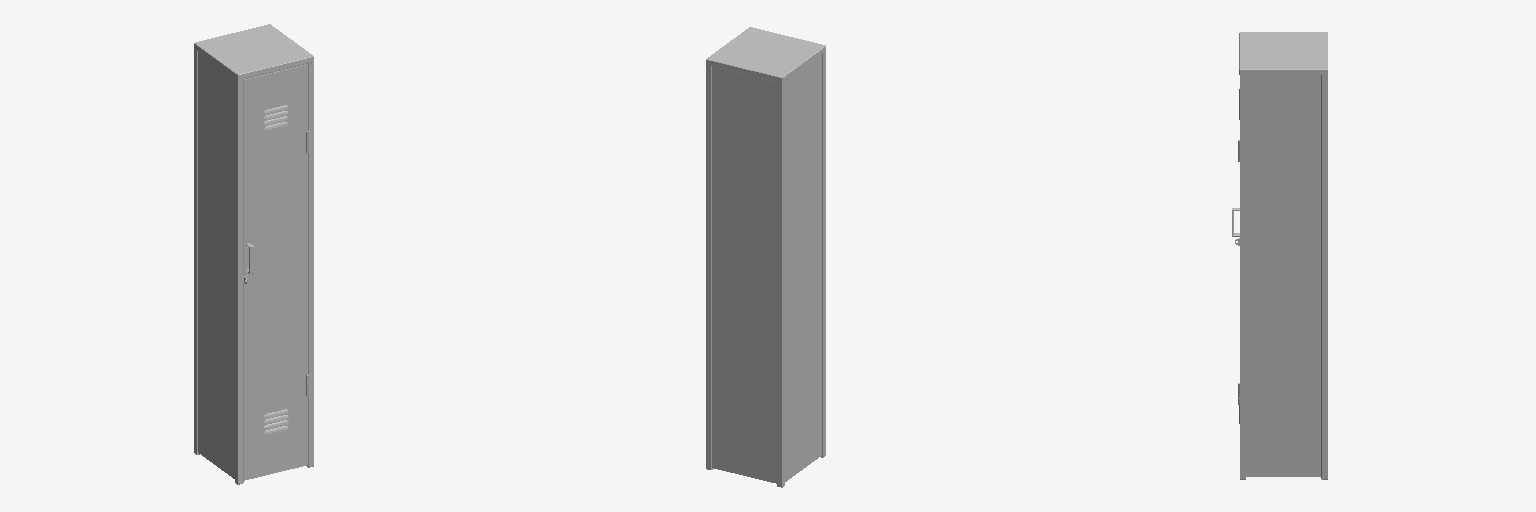
File: locker_LoD_2.obj
The picture shows the model from 3 angles: view 1: azimuth 30°, elevation 25°; view 2: azimuth 150°, elevation 25°; view 3: azimuth 270°, elevation 25°; orthographic projection.
Visible parts, largest first — view 1: SM_LockerClosed_Mesh.005; view 2: SM_LockerClosed_Mesh.005; view 3: SM_LockerClosed_Mesh.005.
Part boxes in pixels (bbox=[...]): SM_LockerClosed_Mesh.005: bbox=[194, 24, 313, 484]; SM_LockerClosed_Mesh.005: bbox=[706, 27, 825, 487]; SM_LockerClosed_Mesh.005: bbox=[1232, 32, 1327, 479].
Size of the model in its own units: 0.353 by 1.8 by 0.3837.